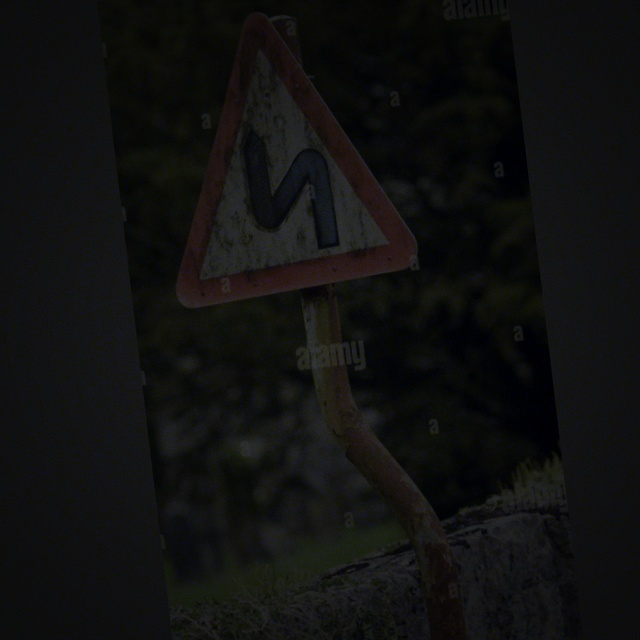Left_Reverse_Bend: (149, 1, 433, 308)
